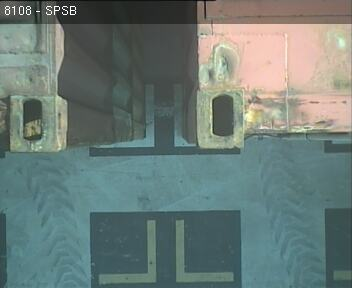groundmarker_1: (93, 79, 230, 149), (97, 218, 233, 287)
